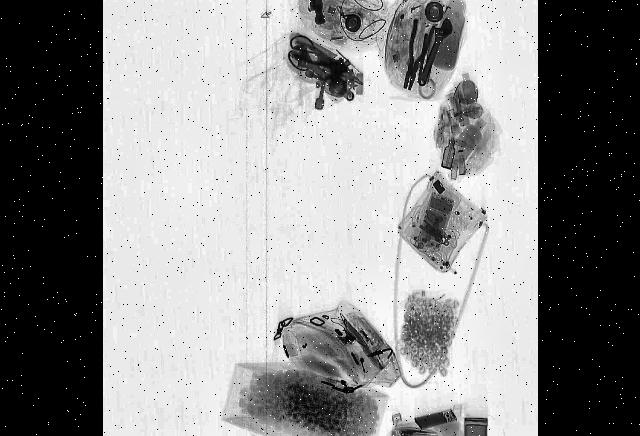Pliers: (398, 18, 432, 94)
Wrench: (411, 12, 455, 94)
